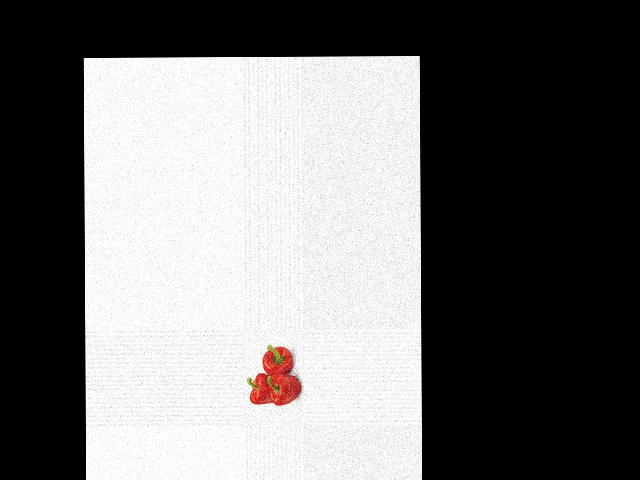bell_pepper: (258, 342, 295, 378)
